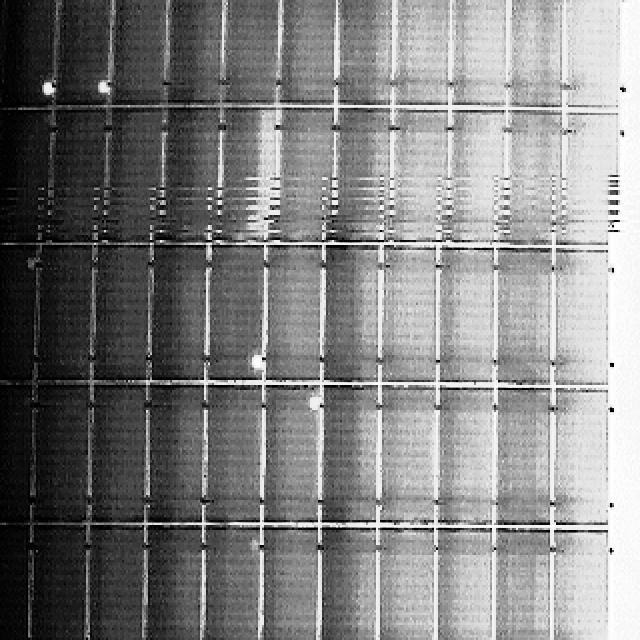Hotspots: (32, 75, 54, 103), (42, 75, 60, 102), (92, 75, 110, 101), (250, 350, 268, 376), (302, 393, 321, 416)
PV-modules: (324, 385, 386, 525), (27, 382, 88, 524), (30, 244, 91, 384), (434, 386, 494, 526), (328, 245, 388, 384), (144, 384, 204, 523), (204, 244, 264, 383), (381, 385, 440, 526), (157, 107, 217, 245), (95, 245, 154, 384), (382, 246, 441, 385), (148, 243, 207, 382), (435, 245, 494, 384), (222, 107, 281, 246), (498, 386, 556, 527), (552, 387, 610, 528), (553, 248, 612, 386), (93, 384, 151, 524), (443, 109, 502, 246), (48, 111, 107, 248), (497, 248, 556, 385), (508, 110, 566, 248), (263, 384, 320, 524), (210, 384, 267, 524), (266, 245, 323, 384), (276, 106, 334, 240), (339, 106, 395, 243), (392, 107, 449, 240), (108, 108, 163, 244), (559, 111, 617, 238), (142, 522, 202, 640), (432, 525, 492, 640), (0, 112, 50, 248), (496, 527, 556, 640), (26, 525, 84, 640), (324, 525, 382, 640), (260, 525, 318, 640), (90, 525, 148, 640), (380, 525, 438, 640), (51, 1, 112, 110), (552, 527, 610, 640), (110, 1, 170, 110), (208, 525, 264, 640), (451, 1, 510, 110), (277, 1, 337, 108), (336, 1, 395, 108), (564, 1, 620, 113), (511, 0, 569, 108), (168, 1, 226, 108), (394, 0, 452, 106), (0, 1, 54, 112), (226, 0, 283, 104), (0, 246, 38, 384), (0, 382, 32, 522), (0, 522, 30, 640)
